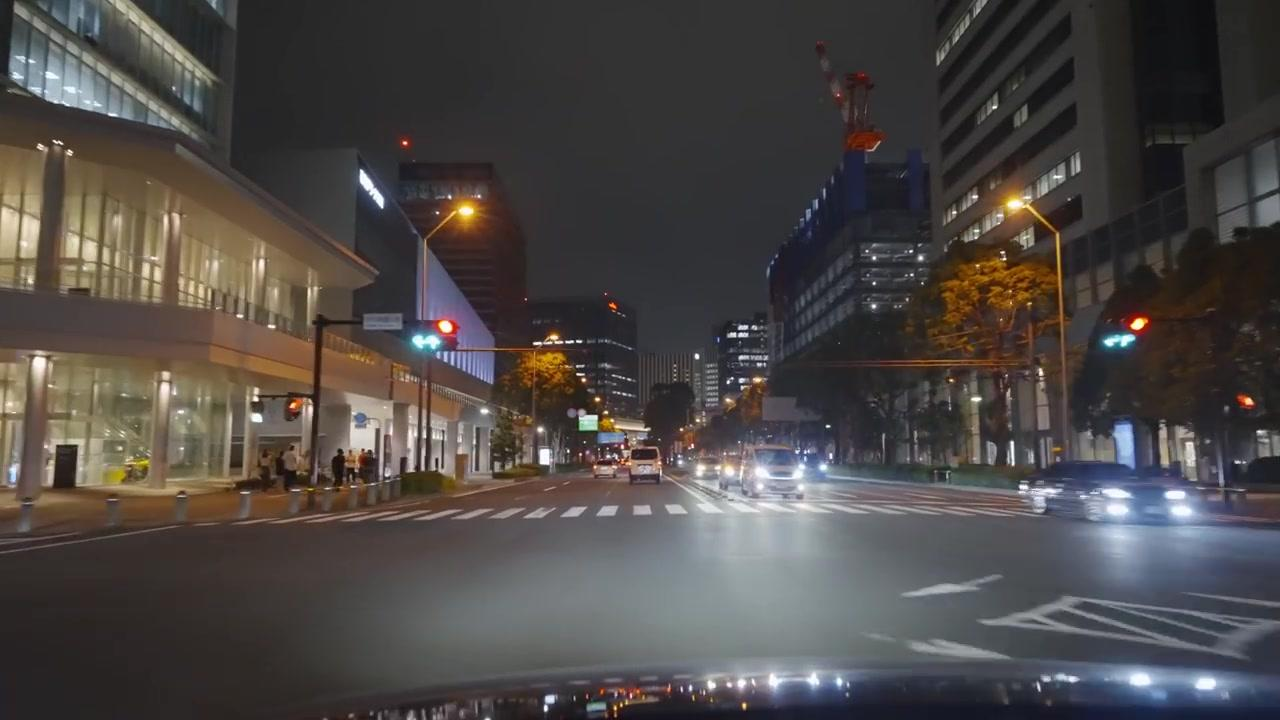bus: (626, 444, 662, 484)
car: (1018, 459, 1196, 524), (743, 447, 805, 500), (1228, 456, 1280, 508), (626, 445, 663, 484), (718, 456, 743, 492), (593, 462, 616, 479)
person: (280, 443, 301, 491), (257, 448, 275, 488), (331, 447, 346, 487), (360, 448, 375, 485)
traffic light: (410, 321, 445, 355), (424, 318, 459, 352), (285, 393, 307, 421), (1127, 315, 1150, 334), (1235, 393, 1256, 412)
truck: (627, 444, 663, 485)
